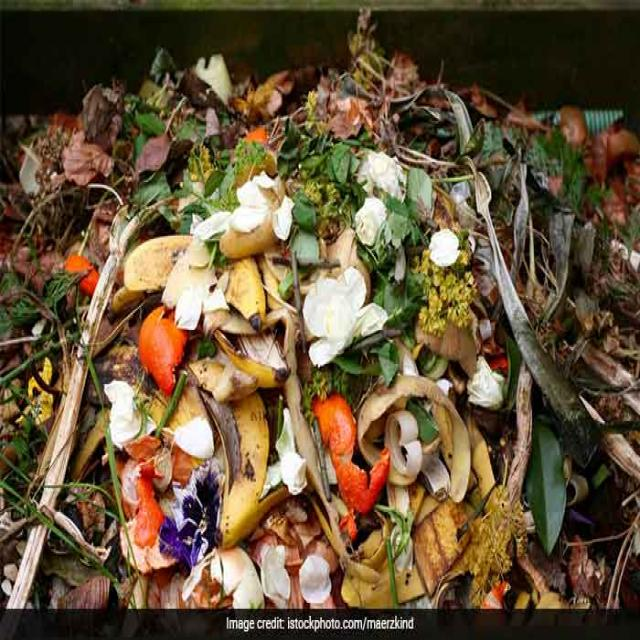Organic: (0, 69, 640, 607), (104, 373, 226, 574), (123, 235, 268, 321), (308, 278, 389, 361), (352, 6, 414, 69), (154, 40, 224, 64)
